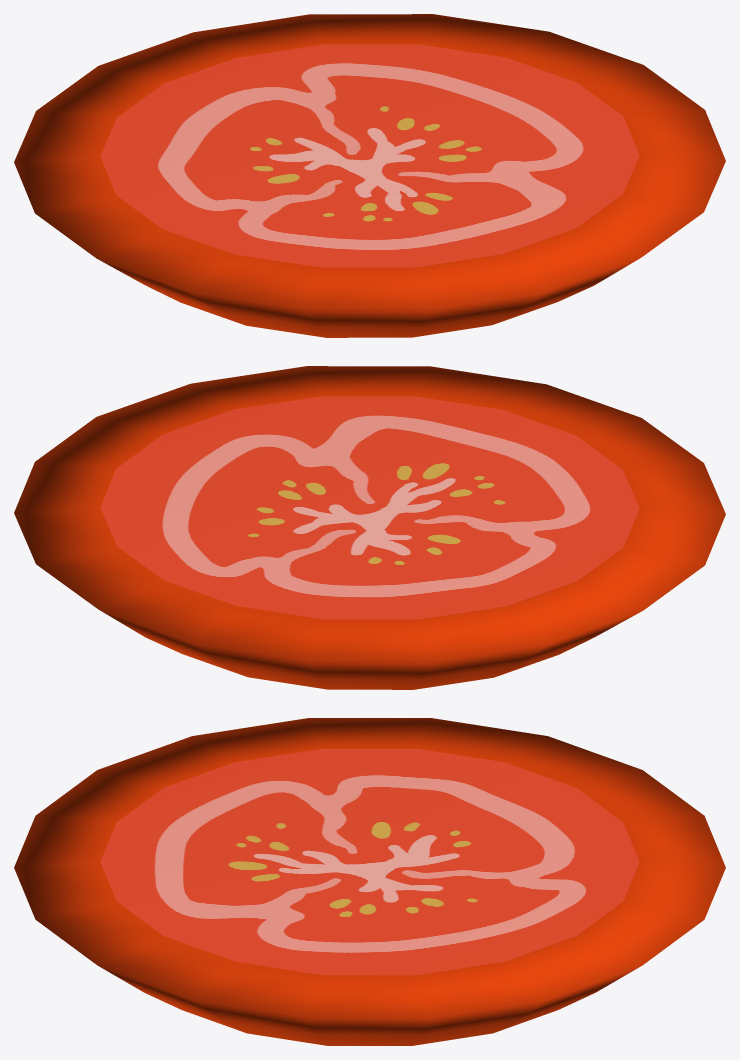
File: TomatoSlice_bottom.fbx
3 views of the same model, one above another, from view 1: azimuth 30°, elevation 25°; view 2: azimuth 150°, elevation 25°; view 3: azimuth 270°, elevation 25° (orthographic).
Visible parts, largest first — view 1: bottom slice; view 2: bottom slice; view 3: bottom slice.
Boxes of the visible parts, x1,y1,x2,y2 form: bottom slice: (14, 14, 725, 337); bottom slice: (14, 366, 725, 689); bottom slice: (14, 718, 725, 1045).
Bounding box in the file's own units: 81.85 × 13.62 × 82.29.
Materials: 2 (1 with a texture image).
